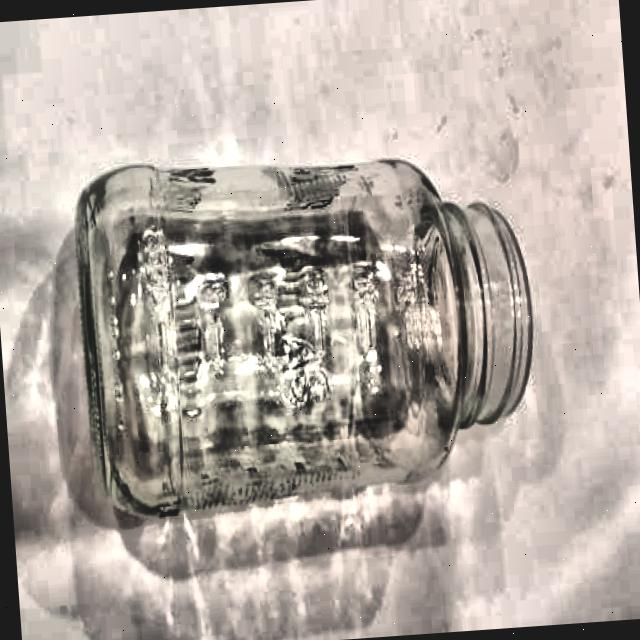glass: (67, 147, 549, 541)
